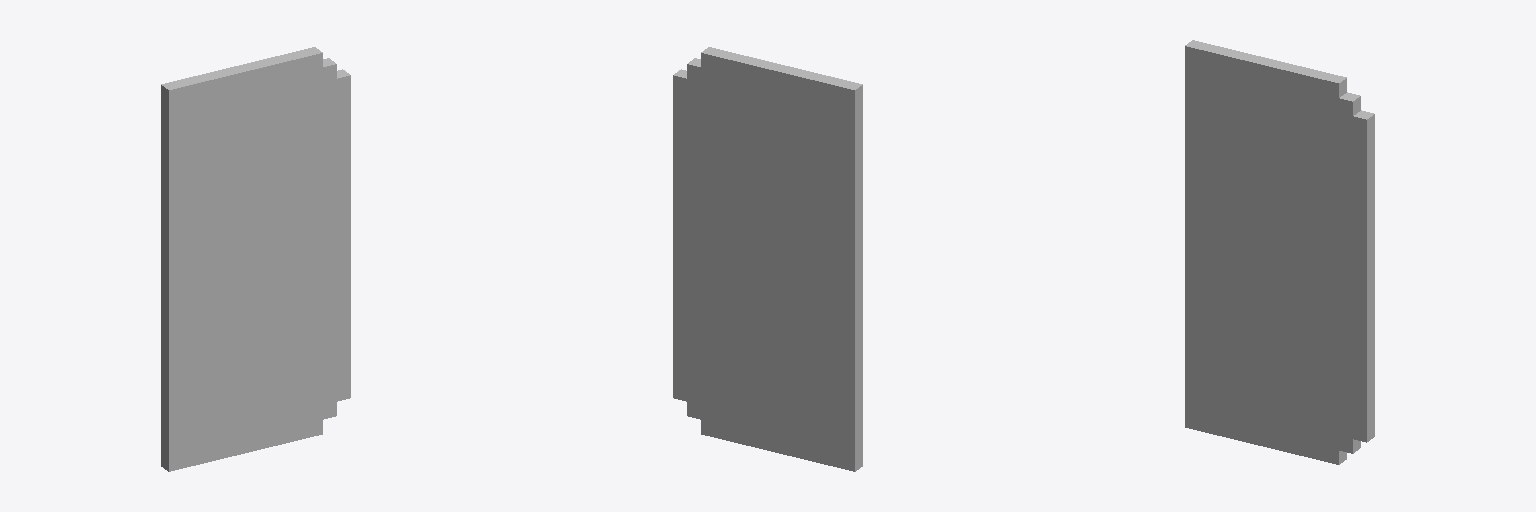
File: door-rightside.obj
The picture shows the model from 3 angles: view 1: azimuth 30°, elevation 25°; view 2: azimuth 150°, elevation 25°; view 3: azimuth 330°, elevation 25°; orthographic projection.
Size of the model in its own units: 13 by 26 by 1.